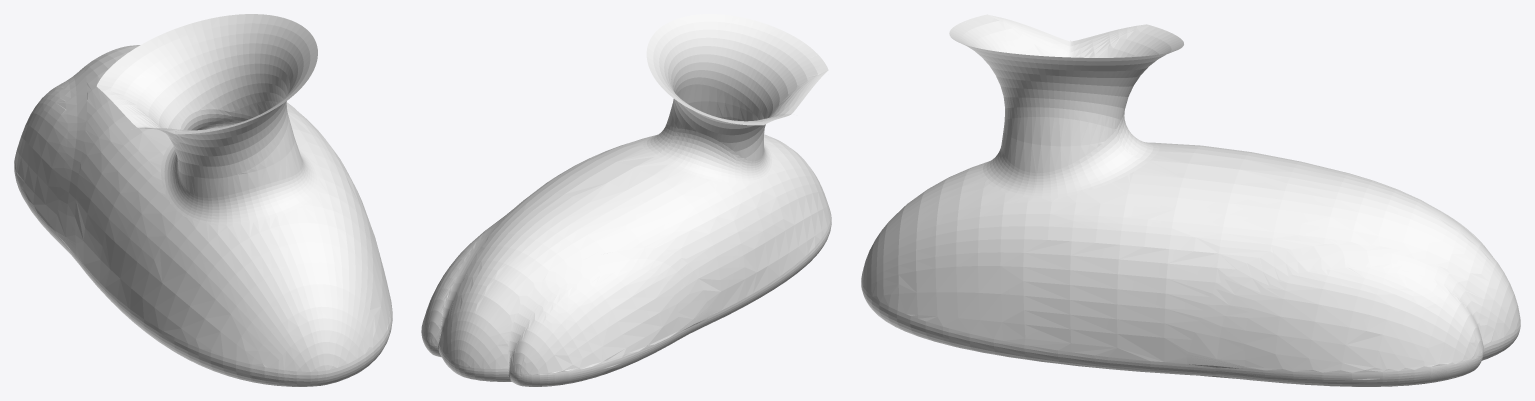
File: Snoopyderecho.obj
The picture shows the model from 3 angles, left to right: view 1: azimuth 30°, elevation 25°; view 2: azimuth 150°, elevation 25°; view 3: azimuth 270°, elevation 25°; orthographic projection. The views are drawn at different scales.
Visible parts, largest first — view 1: pierna2_Material.001; view 2: pierna2_Material.001; view 3: pierna2_Material.001.
Boxes of the visible parts, <box> form: pierna2_Material.001: <box>14,14,392,386</box>; pierna2_Material.001: <box>421,14,831,386</box>; pierna2_Material.001: <box>861,14,1520,386</box>.
Bounding box in the file's own units: 4.8 × 4.16 × 9.03.
